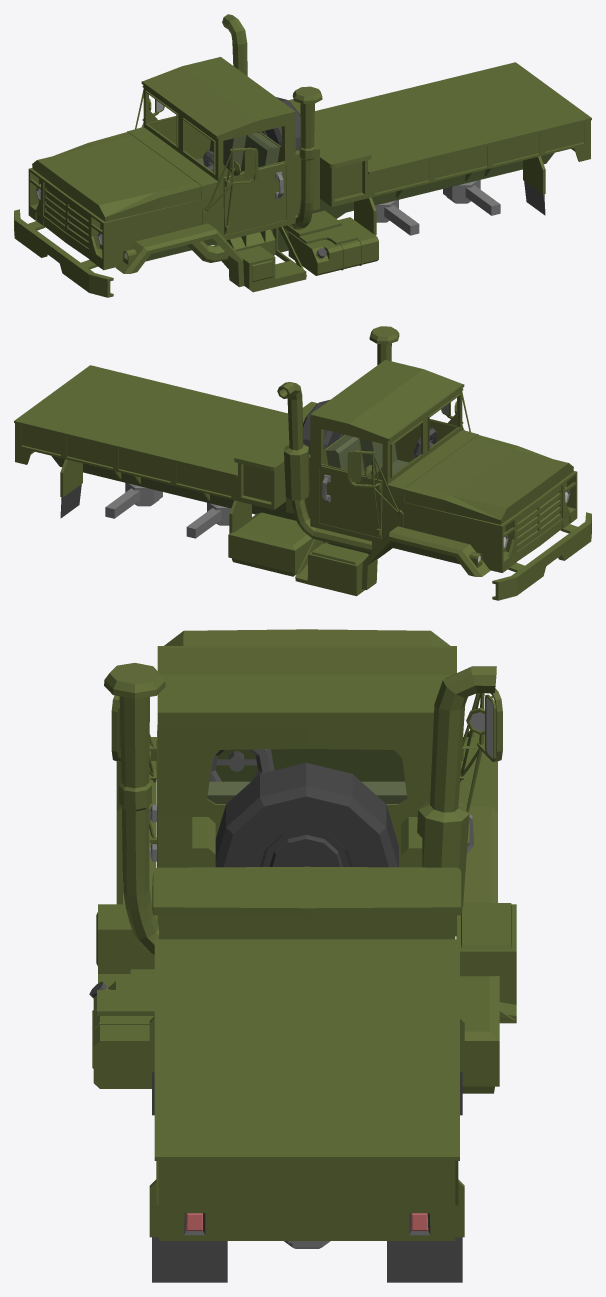
The model's file is sceneA.glb.
The picture shows the model from 3 angles, top to bottom: view 1: azimuth 30°, elevation 25°; view 2: azimuth 150°, elevation 25°; view 3: azimuth 270°, elevation 25°; orthographic projection. The views are drawn at different scales.
Visible parts, largest first — view 1: Main; view 2: Main; view 3: Main, steering_wheel.
Boxes of the visible parts, <box> form: Main: <box>14,14,591,297</box>; Main: <box>14,326,591,600</box>; Main: <box>89,629,516,1282</box>; steering_wheel: <box>209,749,274,781</box>.
Size of the model in its own units: 7.24 by 2.7 by 2.67.
